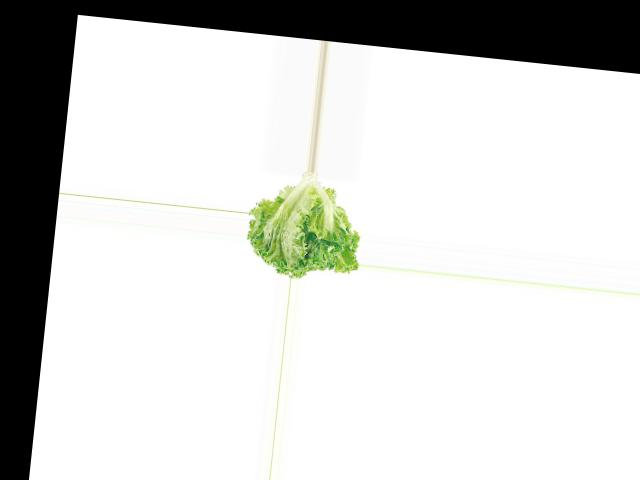lettuce: (243, 165, 367, 283)
